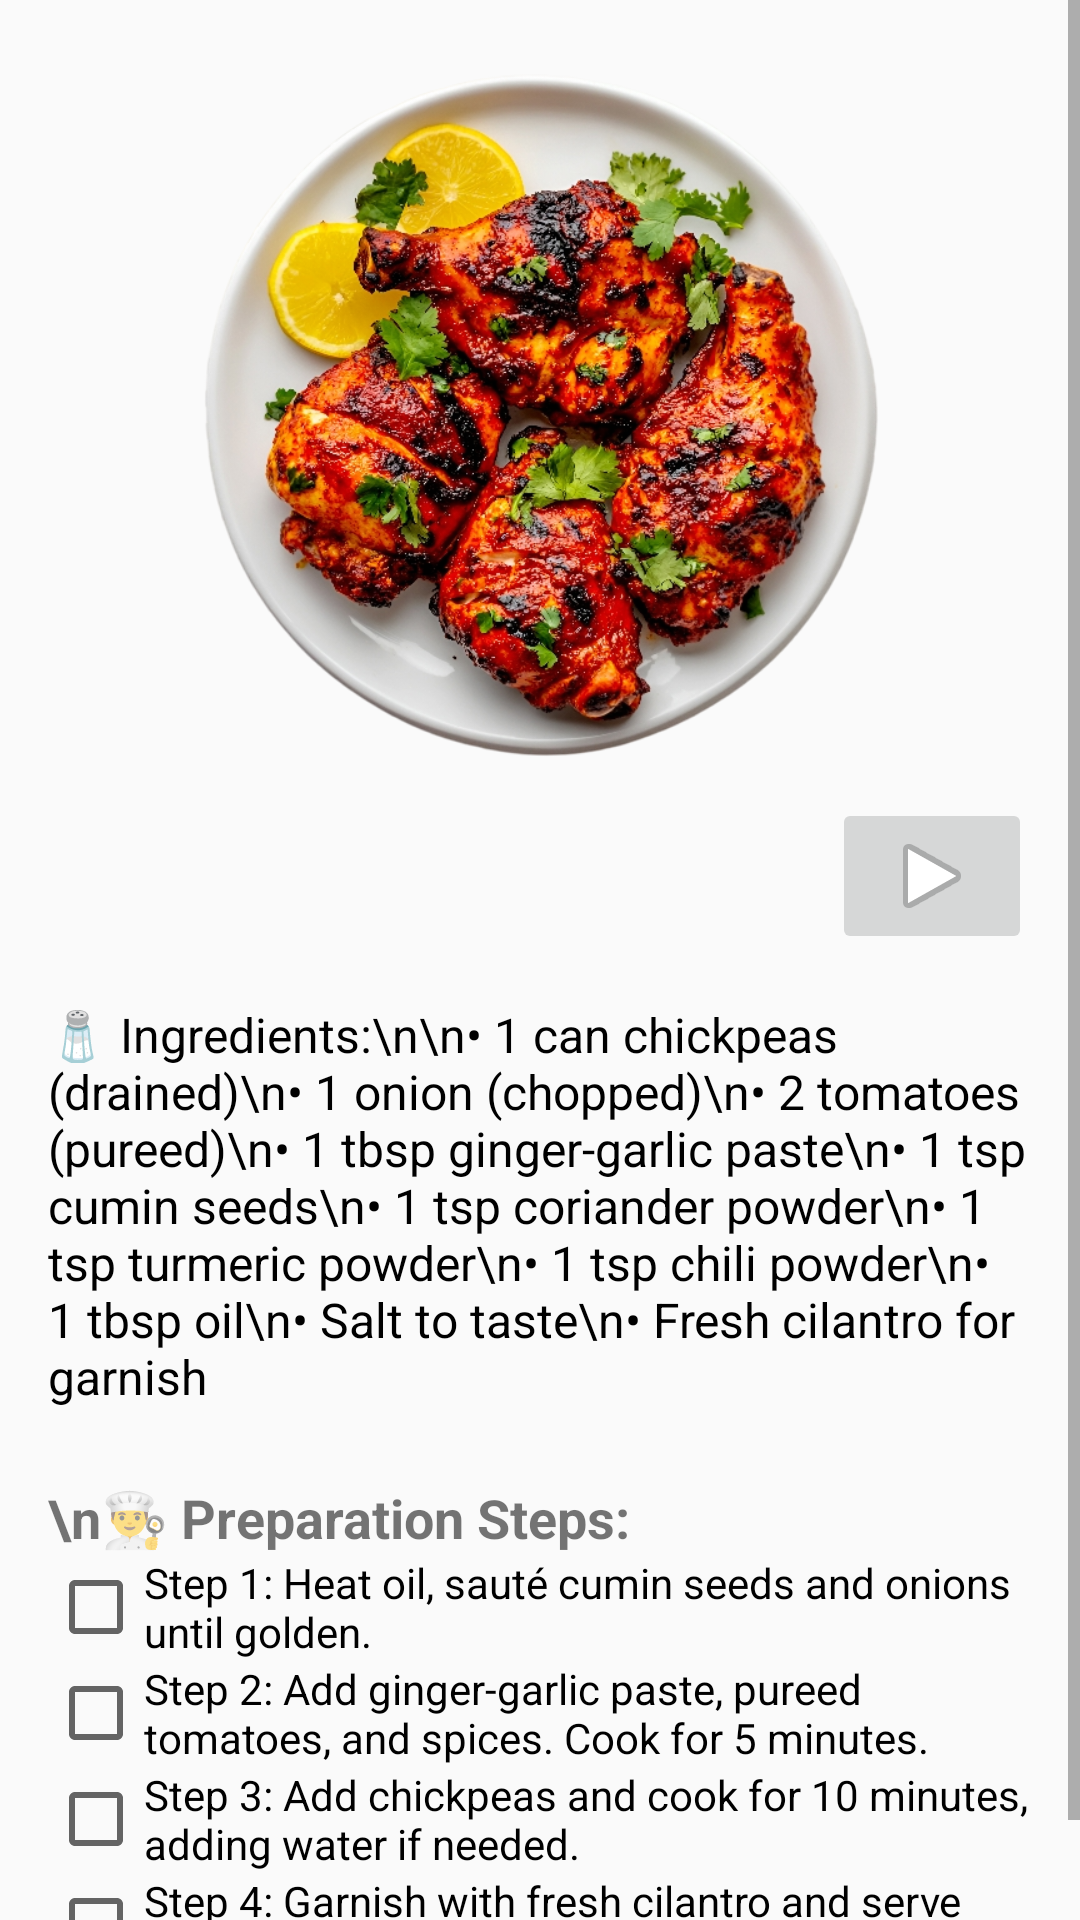

Where icons sit on this 1080x1920 app screen, as (x1, y1, x2, y2):
play: (844, 816, 1020, 936)
